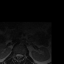CCS_normal: (18, 52, 20, 60)
LFS_normal: (22, 52, 24, 59)
LLS_normal: (20, 52, 22, 59)
RFS_normal: (14, 52, 16, 58)
RLS_normal: (16, 52, 18, 58)
